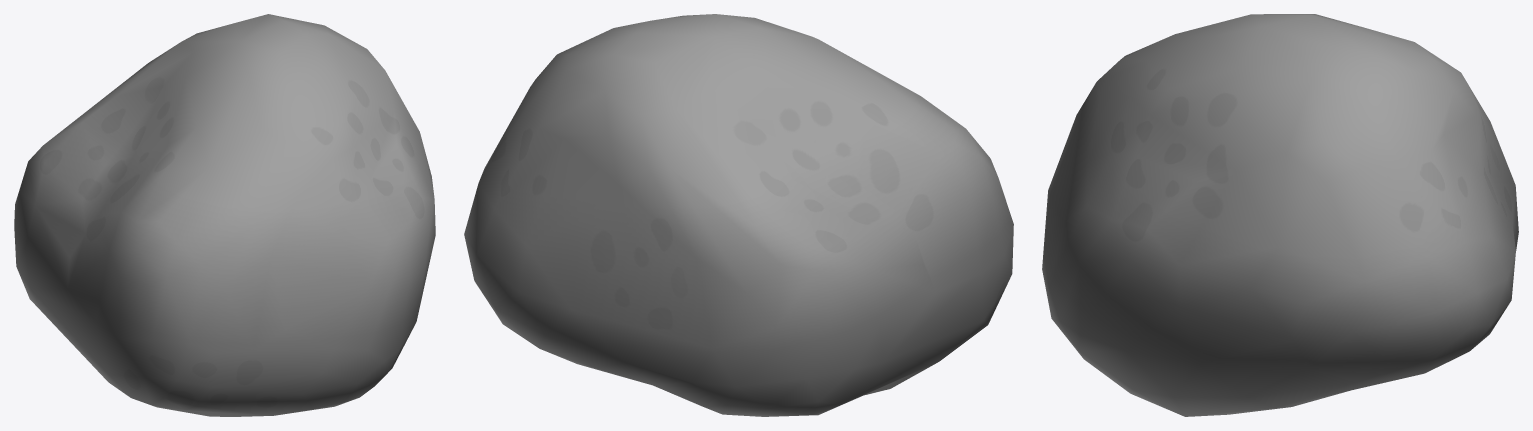
The model's file is Peb00.fbx.
3 views of the same model, side by side, from view 1: azimuth 30°, elevation 25°; view 2: azimuth 150°, elevation 25°; view 3: azimuth 270°, elevation 25° (orthographic). The views are drawn at different scales.
Parts seen in each view (by area): view 1: Peb00; view 2: Peb00; view 3: Peb00.
Part boxes in pixels (x1,y1,x2,y2): Peb00: [14, 14, 435, 416]; Peb00: [464, 14, 1013, 416]; Peb00: [1042, 14, 1518, 416].
Bounding box in the file's own units: 3.72 × 3.11 × 3.58.
